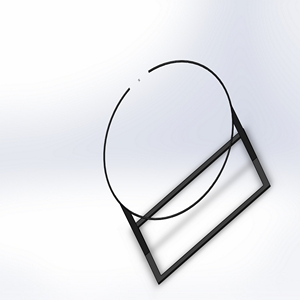circle: (101, 57, 272, 284)
